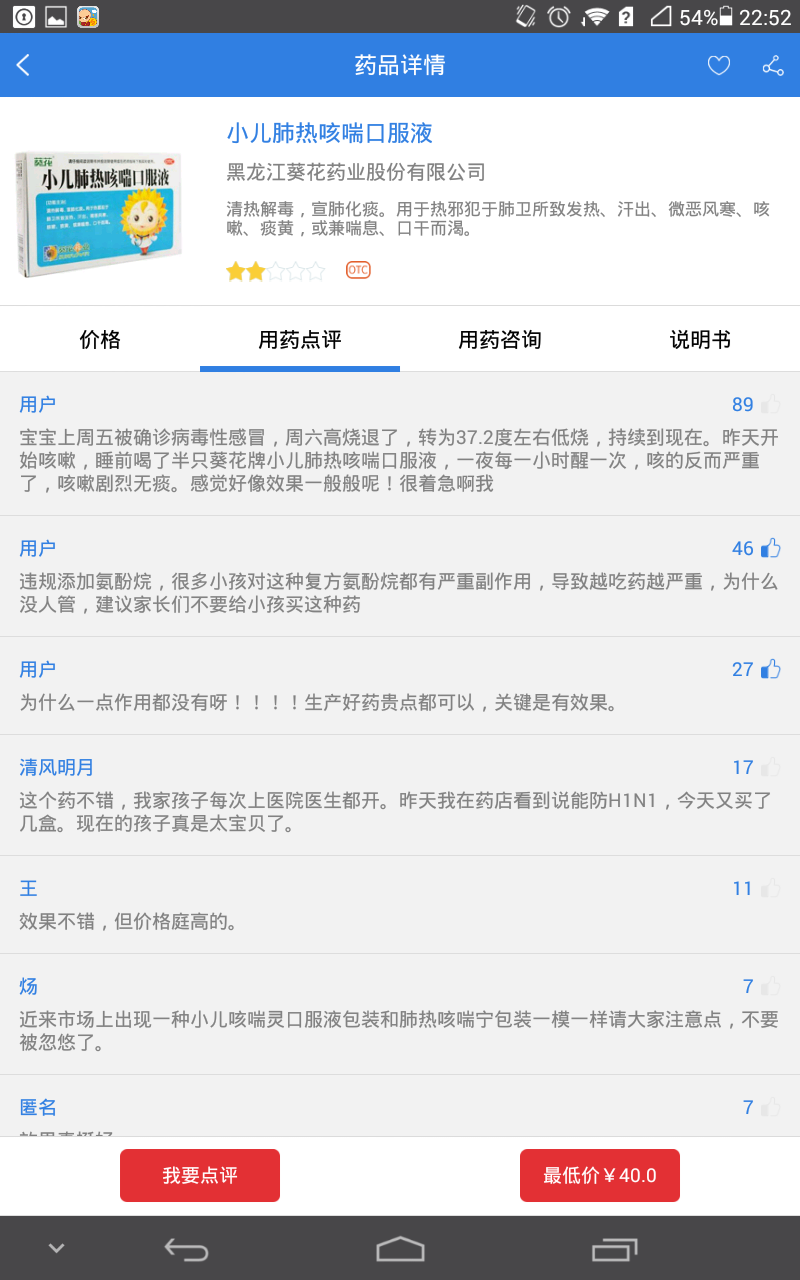button: (105, 1141, 291, 1210), (503, 1141, 687, 1208)
nav: (23, 314, 787, 381)
